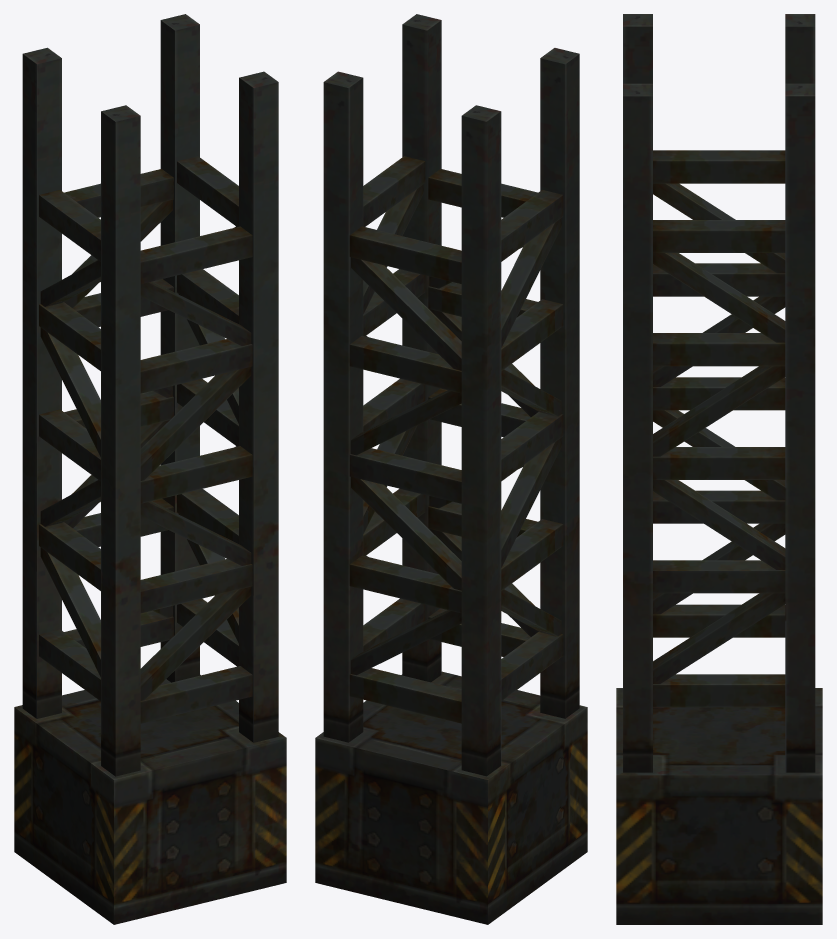
File: Stage-gongchang-fujian6.FBX
3 renders of one model, left to right at view 1: azimuth 30°, elevation 25°; view 2: azimuth 150°, elevation 25°; view 3: azimuth 270°, elevation 25°, orthographic. The views are drawn at different scales.
Visible parts, largest first — view 1: Object42; view 2: Object42; view 3: Object42.
Boxes of the visible parts, box(x1,y1,x2,y2) form: Object42: box(14, 14, 286, 924); Object42: box(315, 14, 587, 924); Object42: box(616, 14, 822, 924).
Bounding box in the file's own units: 2.81 × 2.81 × 12.43.
